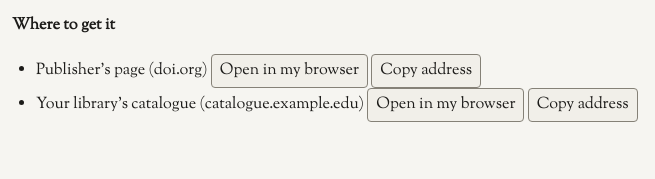
it: WhereToGetIt in the desktop app (R340 d) › an opener that does not take it: that place says so, once, under it; Copy address remains; focus kept
What coordinates should you click on to do the following:
click the button "Open in my browser" in the row of "Publisher's page"
I would click on:
 (289, 71)
Its box is 211,54 -> 368,88.
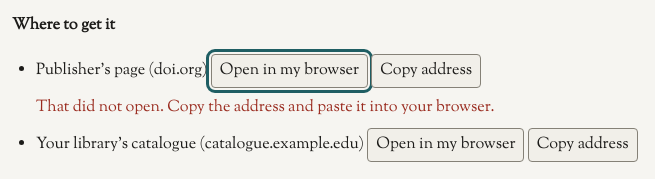
Expected: the button "Copy address" in the row of "Publisher's page" is shown, 371,54 -> 481,88
Now the text "That did not open. Copy the address and paste it into your browser." is shown once, box 36,96 -> 495,119
Now the text "That did not open. Copy the address and paste it into your browser." is shown, box 36,96 -> 495,119
